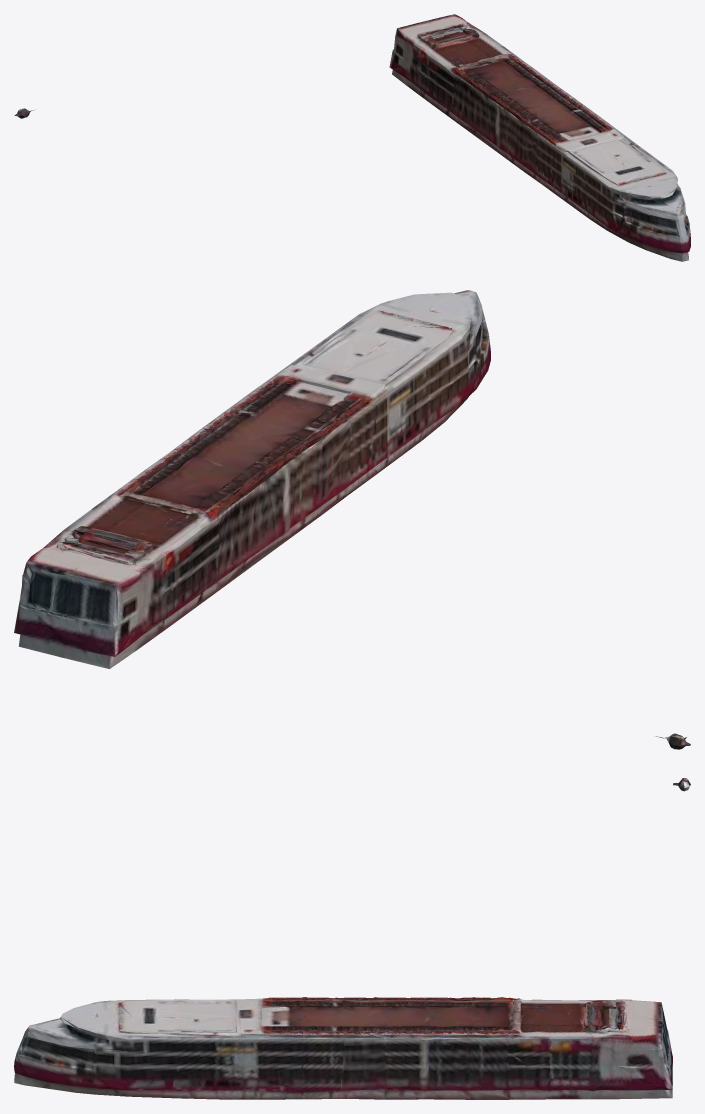
The model's file is transport-06.glb.
3 renders of one model, top to bottom at view 1: azimuth 30°, elevation 25°; view 2: azimuth 150°, elevation 25°; view 3: azimuth 270°, elevation 25°, orthographic. The views are drawn at different scales.
Parts seen in each view (by area): view 1: tmpbym8l5lc.obj; view 2: tmpbym8l5lc.obj; view 3: tmpbym8l5lc.obj.
Boxes of the visible parts, <box> form: tmpbym8l5lc.obj: <box>14,14,690,261</box>; tmpbym8l5lc.obj: <box>14,290,690,749</box>; tmpbym8l5lc.obj: <box>14,778,690,1099</box>.
Bounding box in the file's own units: 0.9562 × 0.1112 × 1.03.
1 material, 1 textured.
